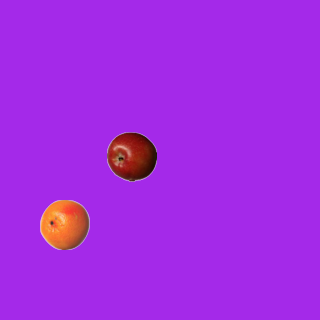Apple Braeburn: (106, 131, 156, 181)
Grapefruit Pink: (39, 199, 89, 249)
